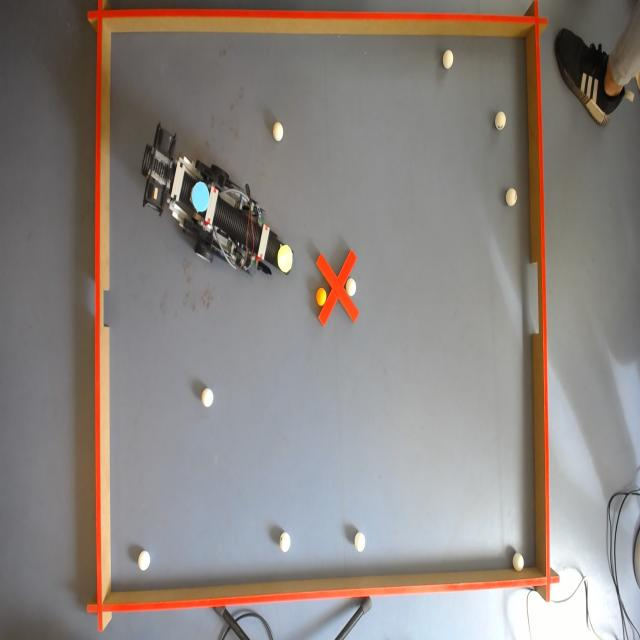orange: (316, 287, 327, 307)
robot: (145, 137, 290, 273)
robot-front: (277, 243, 292, 270)
robot-rear: (191, 180, 210, 212)
white: (278, 532, 292, 556), (356, 532, 368, 554), (506, 188, 519, 208), (137, 552, 151, 570), (512, 552, 525, 571), (202, 389, 214, 409), (271, 122, 283, 142), (443, 50, 455, 68), (497, 111, 508, 130), (346, 278, 356, 294)
